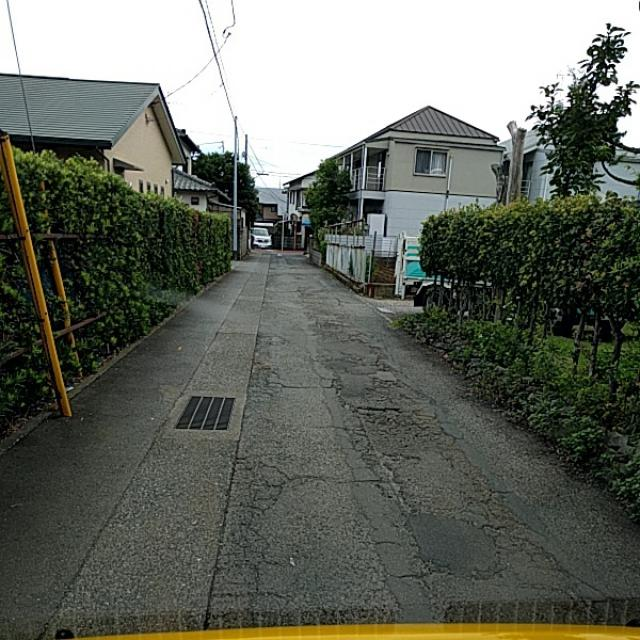pothole: (386, 414, 568, 601), (250, 400, 344, 597)
